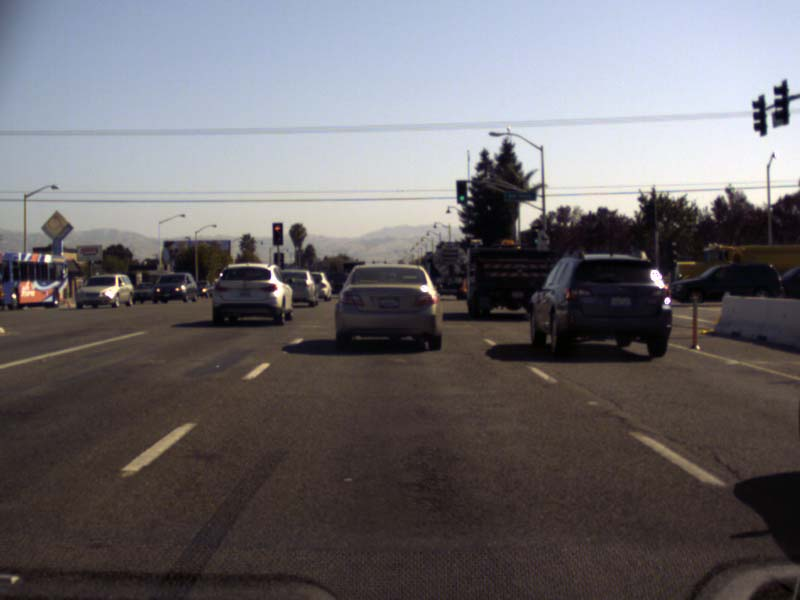Green: (455, 179, 467, 203)
Red: (271, 222, 284, 245)
